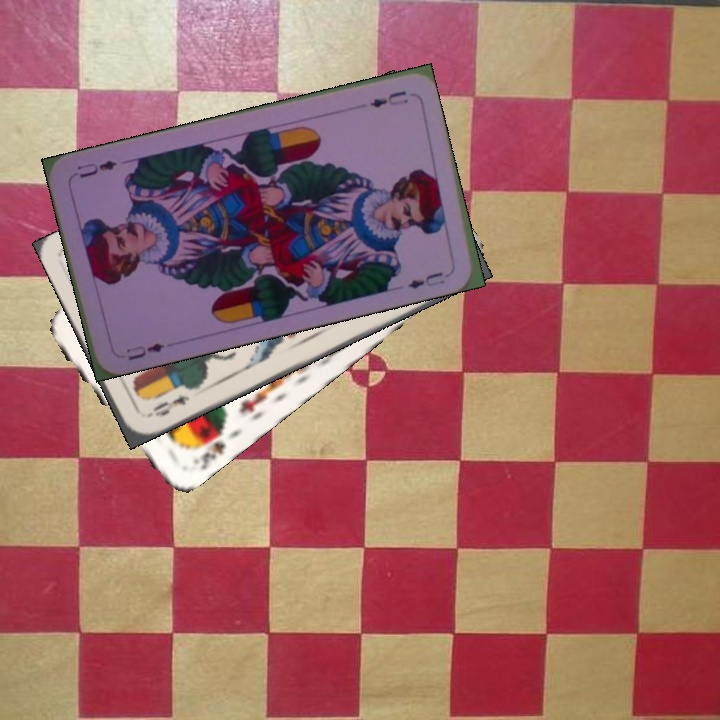EO: (142, 391, 192, 421)
EU: (122, 339, 167, 363), (366, 87, 411, 110)
SK: (188, 423, 228, 473)
